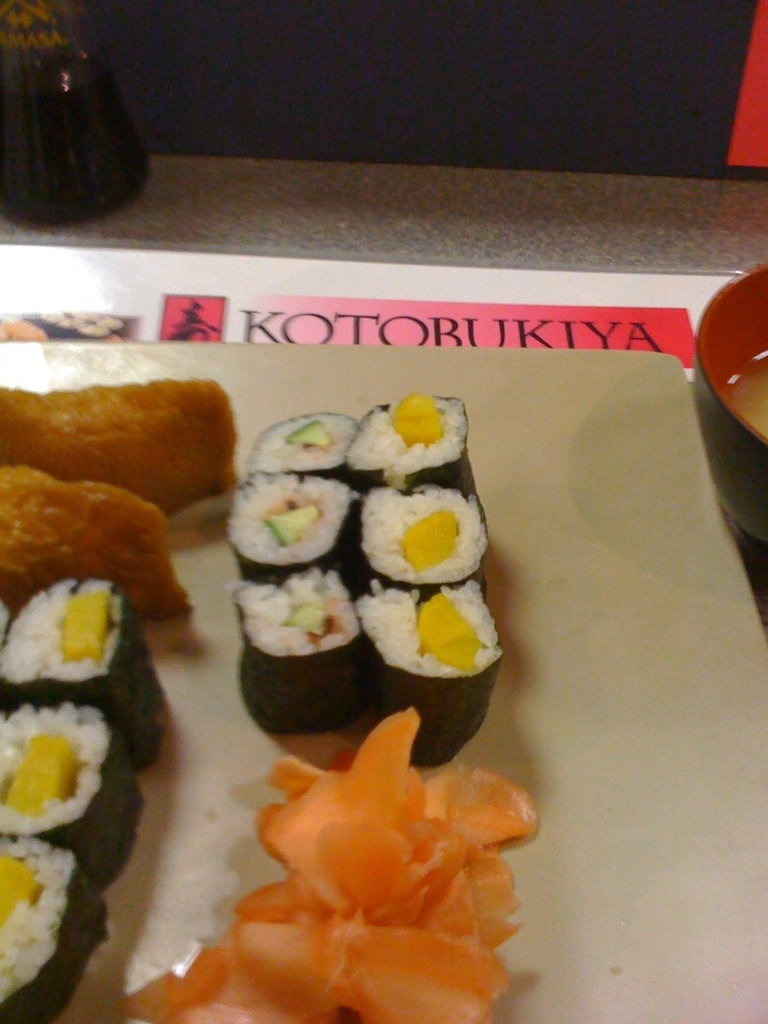sushi: (231, 398, 509, 771), (0, 580, 168, 767), (0, 706, 145, 881), (0, 836, 107, 1020), (244, 573, 371, 674), (347, 395, 477, 489)
